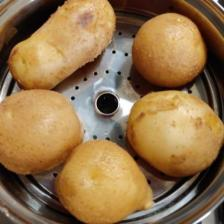Potato: (7, 0, 118, 91), (55, 137, 162, 224), (125, 89, 224, 177), (0, 88, 86, 179), (130, 12, 208, 89)
